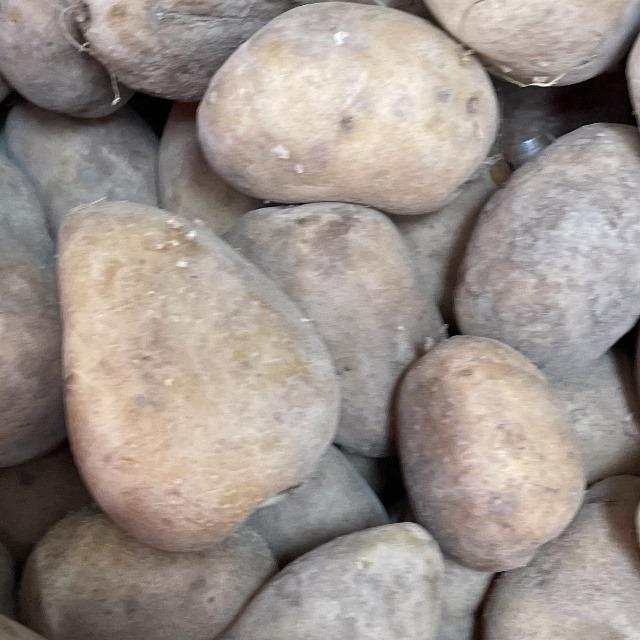potato: (50, 178, 350, 568), (182, 0, 510, 222), (378, 312, 600, 580), (102, 492, 487, 640)
